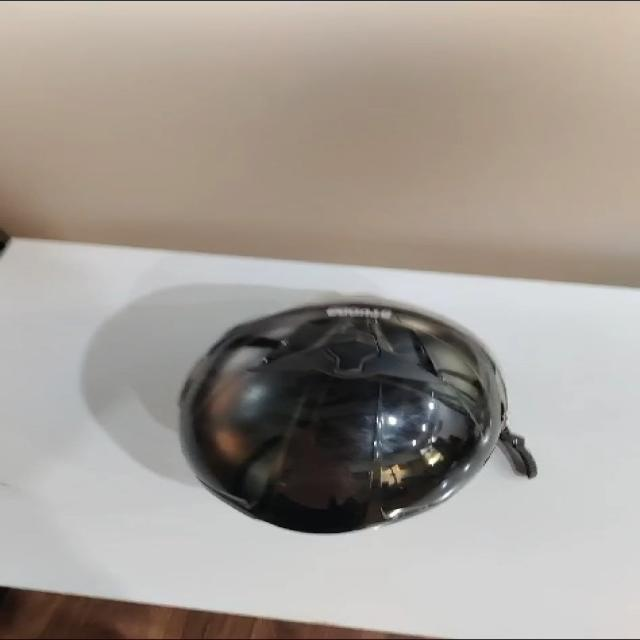helmet: (176, 288, 509, 532)
